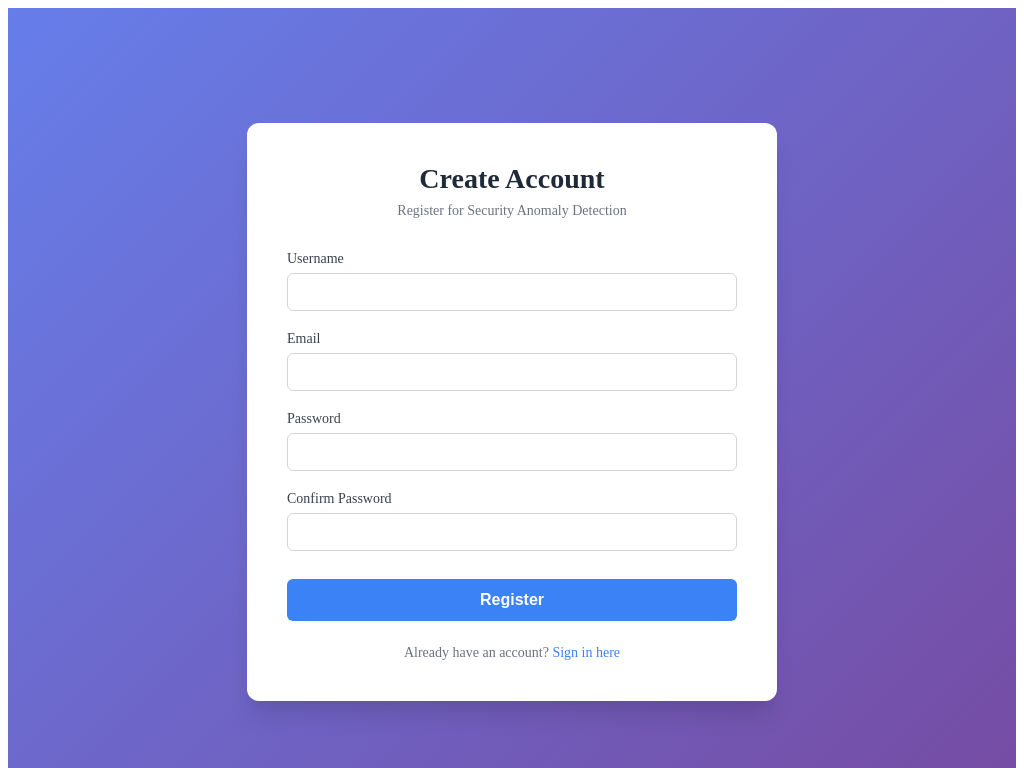
Test: Register Component › should show error when passwords do not match
Type "newuser" into the field labelled "Username" at {"x": 512, "y": 292}, box [287,273,737,311]
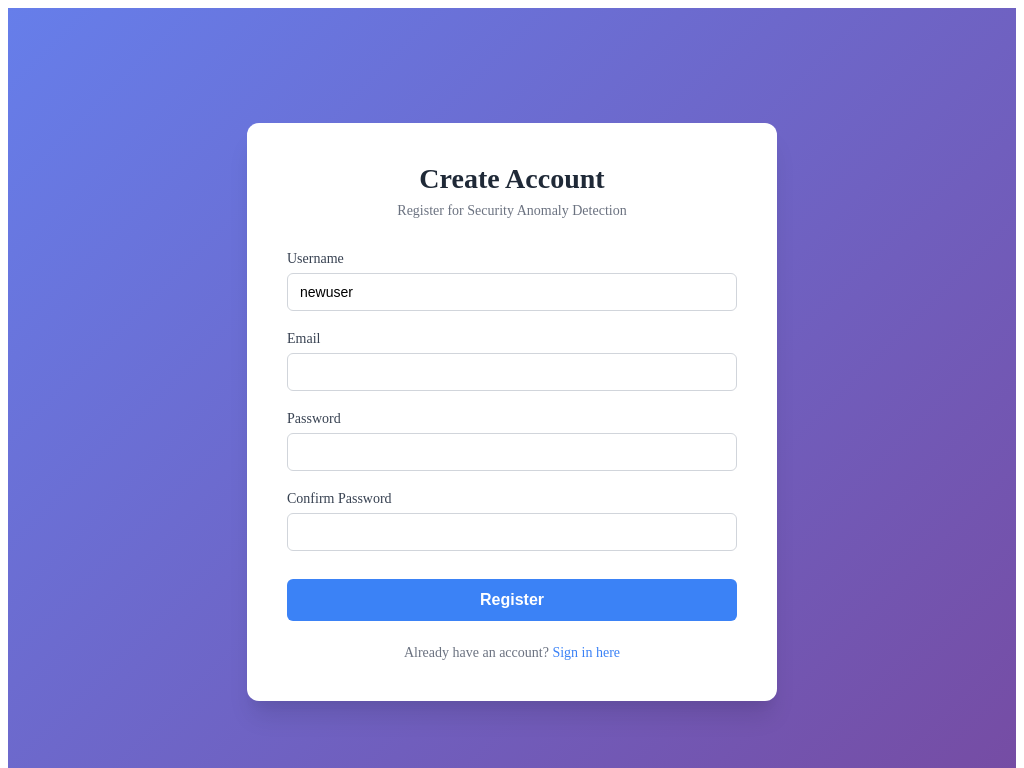
Type "test@example.com" into the field labelled "Email" at {"x": 512, "y": 372}, box [287,353,737,391]
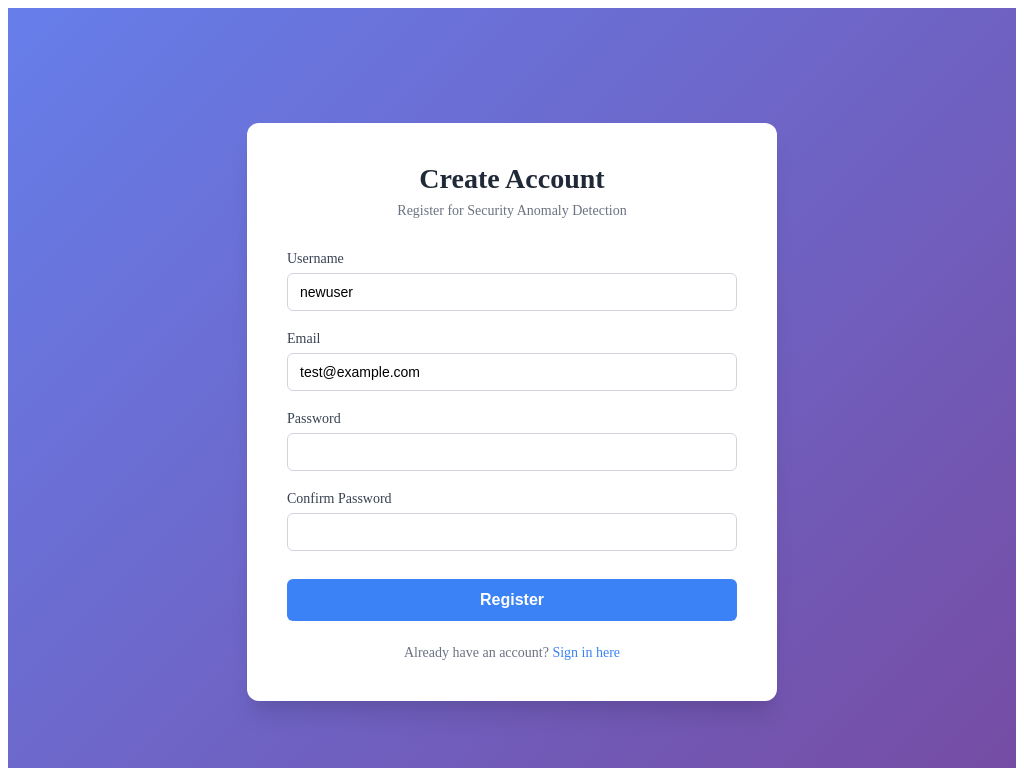
Type "password123" into the password field labelled "Password" at {"x": 512, "y": 452}, box [287,433,737,471]
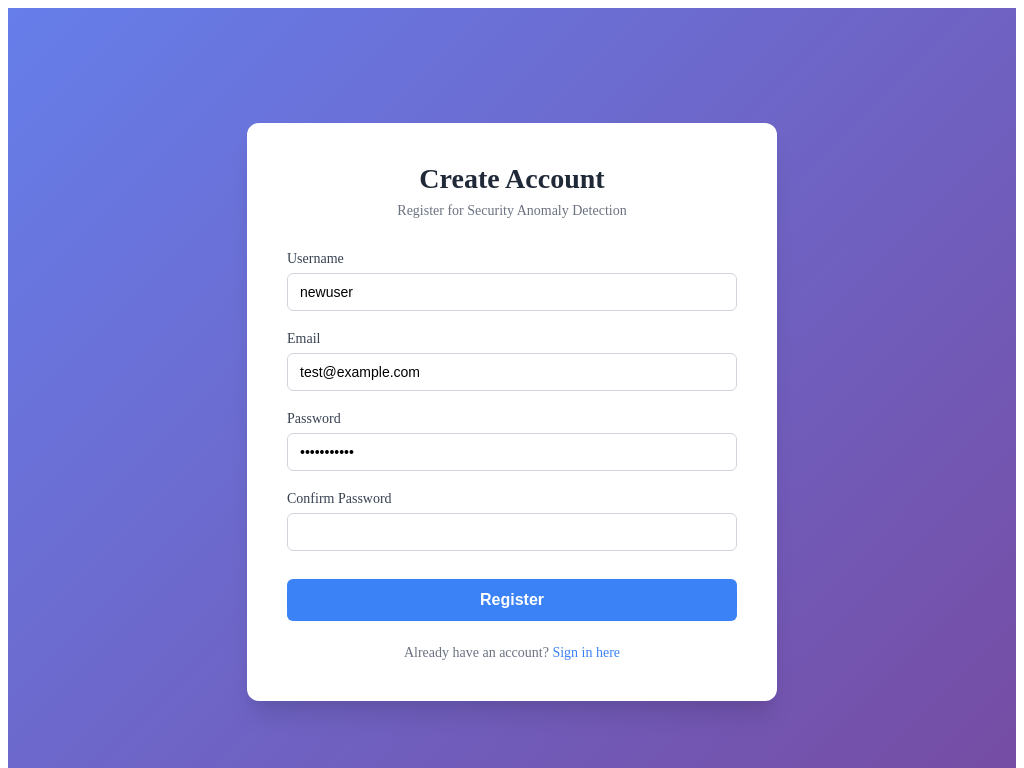
Type "different" into the password field labelled "Confirm Password" at {"x": 512, "y": 532}, box [287,513,737,551]
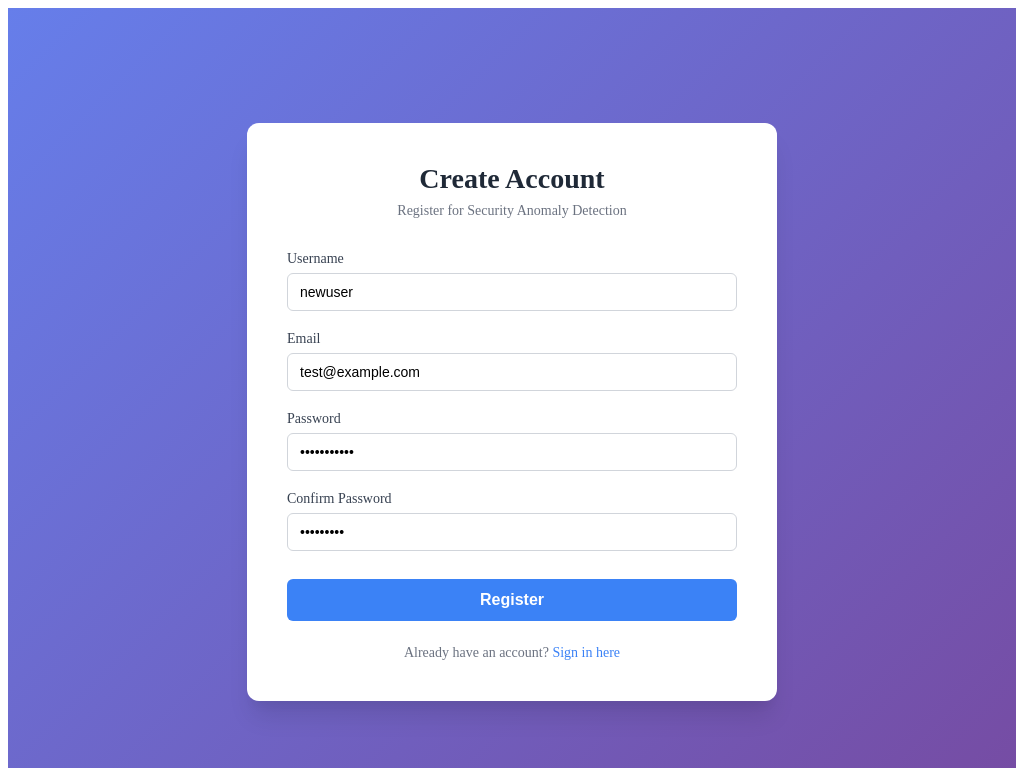
Click the button "Register" at {"x": 512, "y": 600}, box [287,579,737,621]
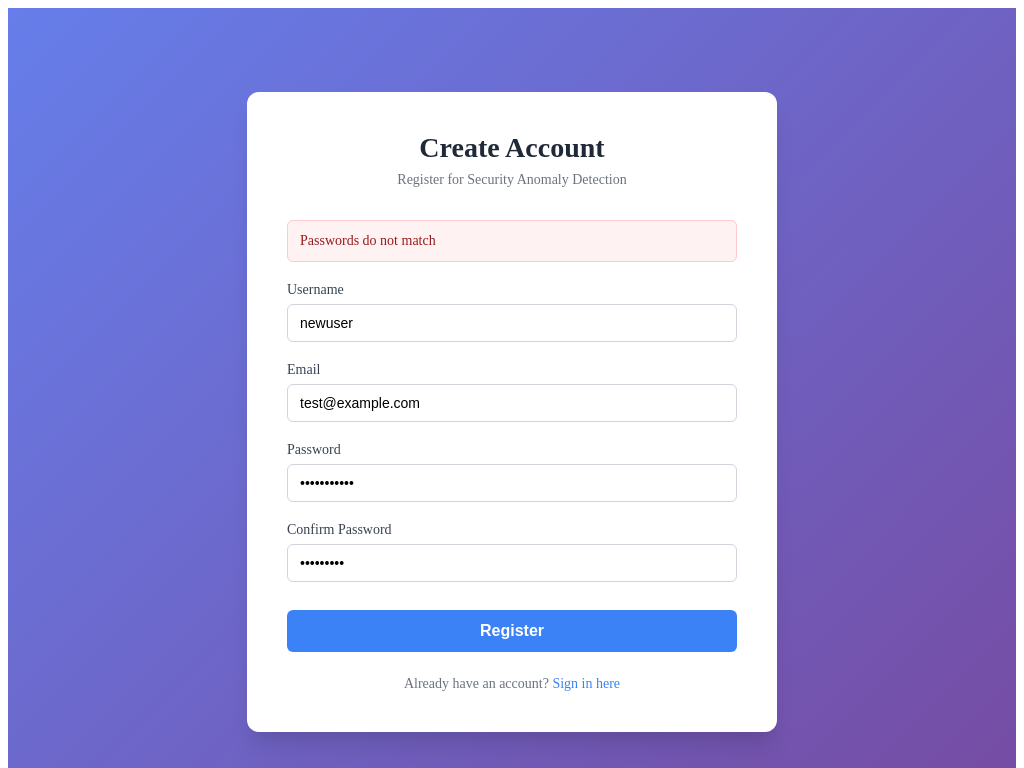
Result: the text "Passwords do not match" is shown at [287,220,737,262]
